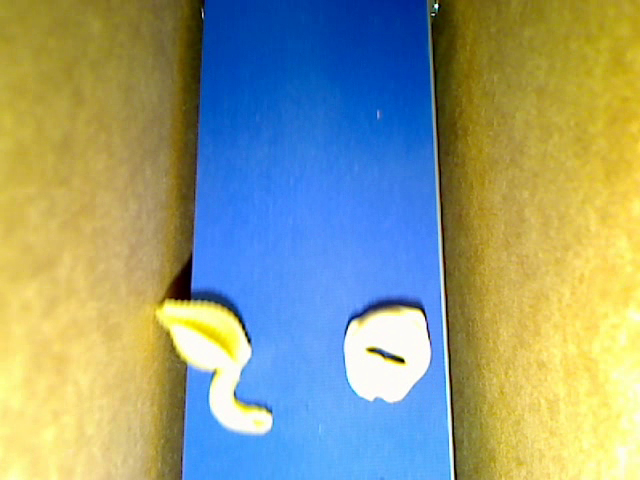elbow: (208, 367, 273, 434)
shell: (155, 297, 251, 372)
tortellini: (343, 306, 432, 403)
